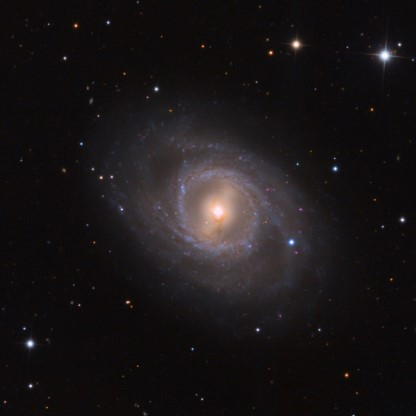Messier 95: (98, 120, 334, 306)
